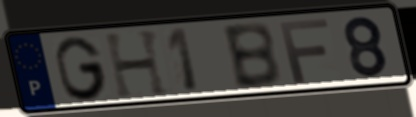1: (165, 25, 200, 96)
8: (342, 14, 392, 81)
B: (219, 20, 284, 92)
F: (277, 16, 333, 86)
G: (52, 34, 111, 103)
H: (101, 27, 173, 101)
